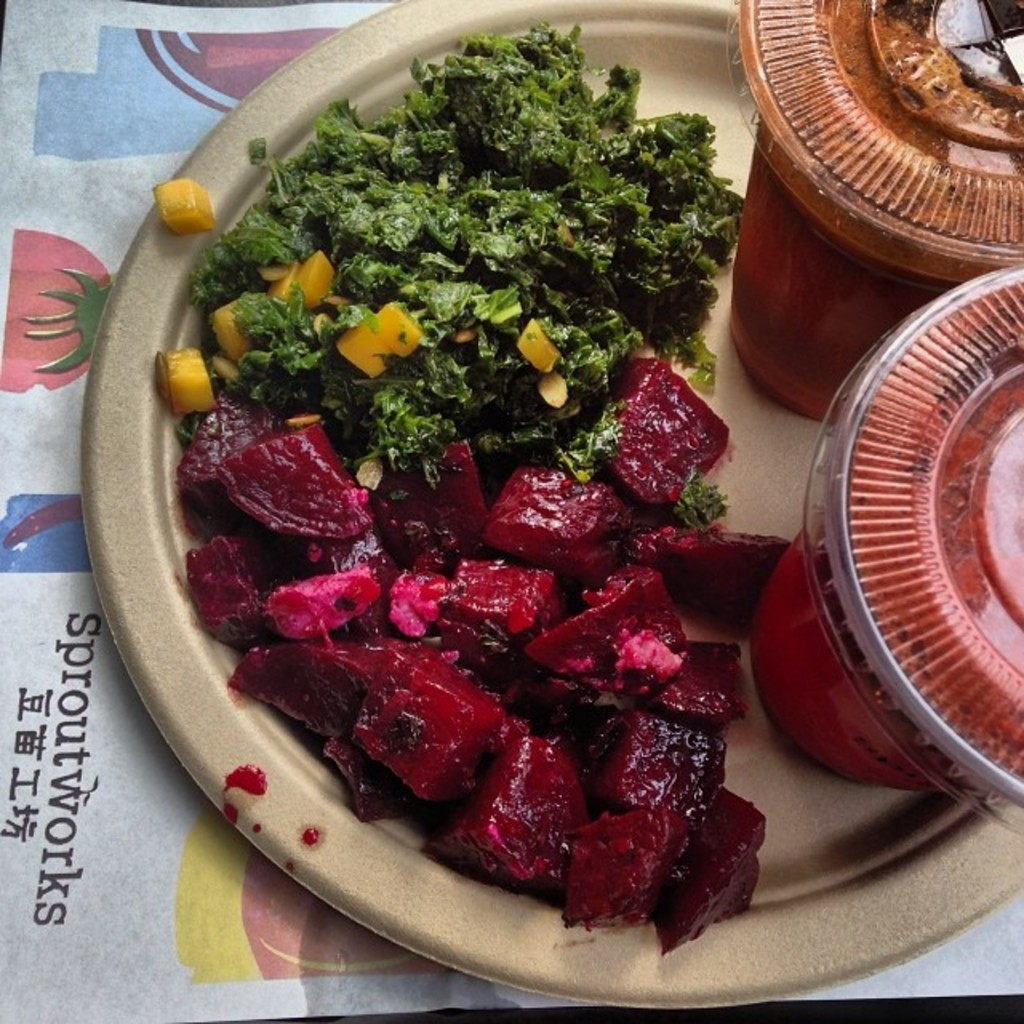salad: (152, 14, 800, 960)
